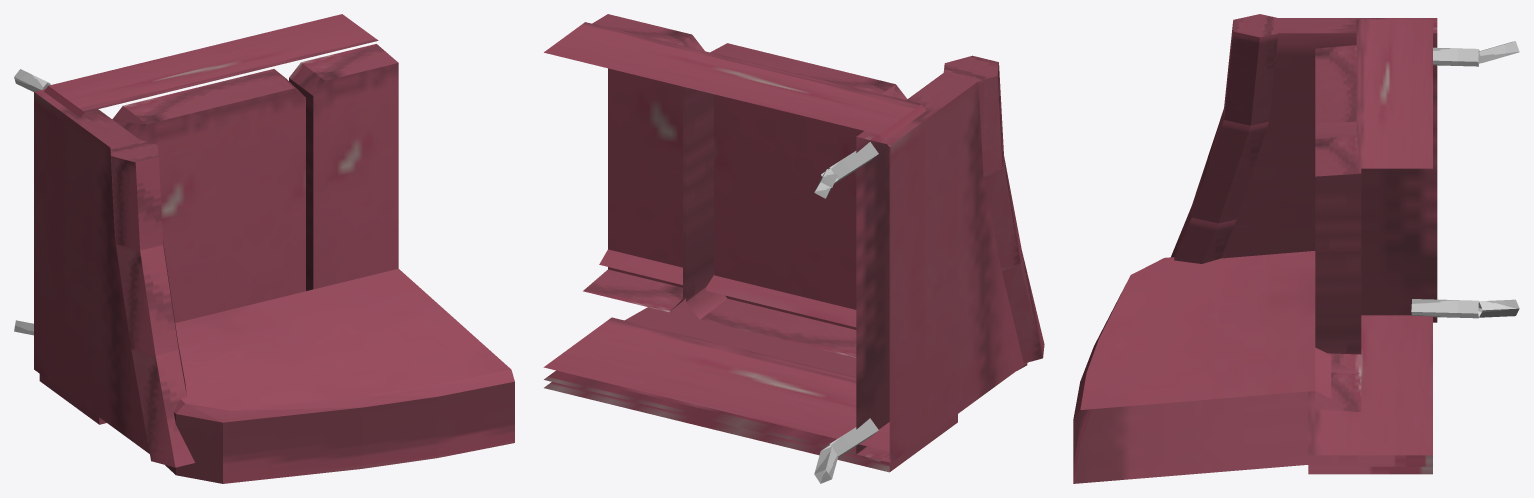
File: pz_sofa_seating_indoor_03_victorian_c1_0_0_fidelity_r1.obj
3 renders of one model, left to right at view 1: azimuth 30°, elevation 25°; view 2: azimuth 150°, elevation 25°; view 3: azimuth 270°, elevation 25°, orthographic. The views are drawn at different scales.
Parts seen in each view (by area): view 1: pz_sofa_seating_indoor_03_victorian_c1_0_0__sculpted_back__back, pz_sofa_seating_indoor_03_victorian_c1_0_0__seat_0__seat, pz_sofa_seating_indoor_03_victorian_c1_0_0__curved_victorian_sid, pz_sofa_seating_indoor_03_victorian_c1_0_0__seat_1__seat, pz_sofa_seating_indoor_03_victorian_c1_0_0__lower_body__body, pz_sofa_seating_indoor_03_victorian_c1_0_0__victorian_roll_-1_1_, pz_sofa_seating_indoor_03_victorian_c1_0_0__victorian_roll_-1_2_, pz_sofa_seating_indoor_03_victorian_c1_0_0__victorian_roll_-1_0_, pz_sofa_seating_indoor_03_victorian_c1_0_0__sculpted_back__frame; view 2: pz_sofa_seating_indoor_03_victorian_c1_0_0__curved_victorian_sid, pz_sofa_seating_indoor_03_victorian_c1_0_0__seat_0__seat, pz_sofa_seating_indoor_03_victorian_c1_0_0__rear_body_bridge__bo, pz_sofa_seating_indoor_03_victorian_c1_0_0__lower_body__body, pz_sofa_seating_indoor_03_victorian_c1_0_0__seat_1__seat, pz_sofa_seating_indoor_03_victorian_c1_0_0__sculpted_back__back, pz_sofa_seating_indoor_03_victorian_c1_0_0__sculpted_back__frame, pz_sofa_seating_indoor_03_victorian_c1_0_0__victorian_roll_-1_2_, pz_sofa_seating_indoor_03_victorian_c1_0_0__victorian_roll_-1_0_, pz_sofa_seating_indoor_03_victorian_c1_0_0__victorian_roll_-1_1_, pz_sofa_seating_indoor_03_victorian_c1_0_0__curved_foot_-1_1_1__, pz_sofa_seating_indoor_03_victorian_c1_0_0__curved_foot_-1_-1_1_ (+1 smaller); view 3: pz_sofa_seating_indoor_03_victorian_c1_0_0__sculpted_back__back, pz_sofa_seating_indoor_03_victorian_c1_0_0__curved_victorian_sid, pz_sofa_seating_indoor_03_victorian_c1_0_0__rear_body_bridge__bo, pz_sofa_seating_indoor_03_victorian_c1_0_0__lower_body__body, pz_sofa_seating_indoor_03_victorian_c1_0_0__seat_1__seat, pz_sofa_seating_indoor_03_victorian_c1_0_0__victorian_roll_-1_2_, pz_sofa_seating_indoor_03_victorian_c1_0_0__victorian_roll_-1_1_, pz_sofa_seating_indoor_03_victorian_c1_0_0__seat_0__seat, pz_sofa_seating_indoor_03_victorian_c1_0_0__victorian_roll_-1_0_, pz_sofa_seating_indoor_03_victorian_c1_0_0__curved_foot_-1_-1_1_, pz_sofa_seating_indoor_03_victorian_c1_0_0__sculpted_back__frame, pz_sofa_seating_indoor_03_victorian_c1_0_0__curved_foot_-1_1_1__ (+2 smaller).
Boxes of the visible parts, box(x1,y1,x2,y2) form: pz_sofa_seating_indoor_03_victorian_c1_0_0__sculpted_back__back: box(165, 268, 514, 483); pz_sofa_seating_indoor_03_victorian_c1_0_0__seat_0__seat: box(112, 69, 305, 322); pz_sofa_seating_indoor_03_victorian_c1_0_0__curved_victorian_sid: box(34, 89, 149, 453); pz_sofa_seating_indoor_03_victorian_c1_0_0__seat_1__seat: box(289, 44, 398, 290); pz_sofa_seating_indoor_03_victorian_c1_0_0__lower_body__body: box(44, 14, 378, 117); pz_sofa_seating_indoor_03_victorian_c1_0_0__victorian_roll_-1_1_: box(115, 241, 178, 355); pz_sofa_seating_indoor_03_victorian_c1_0_0__victorian_roll_-1_2_: box(110, 138, 163, 250); pz_sofa_seating_indoor_03_victorian_c1_0_0__victorian_roll_-1_0_: box(131, 338, 194, 467); pz_sofa_seating_indoor_03_victorian_c1_0_0__sculpted_back__frame: box(174, 369, 514, 422); pz_sofa_seating_indoor_03_victorian_c1_0_0__curved_victorian_sid: box(856, 71, 1027, 462); pz_sofa_seating_indoor_03_victorian_c1_0_0__seat_0__seat: box(686, 43, 907, 357); pz_sofa_seating_indoor_03_victorian_c1_0_0__rear_body_bridge__bo: box(543, 317, 957, 472); pz_sofa_seating_indoor_03_victorian_c1_0_0__lower_body__body: box(544, 22, 926, 461); pz_sofa_seating_indoor_03_victorian_c1_0_0__seat_1__seat: box(583, 14, 704, 312); pz_sofa_seating_indoor_03_victorian_c1_0_0__sculpted_back__back: box(625, 298, 1027, 376); pz_sofa_seating_indoor_03_victorian_c1_0_0__sculpted_back__frame: box(599, 249, 856, 327); pz_sofa_seating_indoor_03_victorian_c1_0_0__victorian_roll_-1_2_: box(943, 55, 1003, 174); pz_sofa_seating_indoor_03_victorian_c1_0_0__victorian_roll_-1_0_: box(1001, 250, 1044, 363); pz_sofa_seating_indoor_03_victorian_c1_0_0__victorian_roll_-1_1_: box(983, 156, 1021, 268); pz_sofa_seating_indoor_03_victorian_c1_0_0__curved_foot_-1_1_1__: box(821, 142, 878, 183); pz_sofa_seating_indoor_03_victorian_c1_0_0__curved_foot_-1_-1_1_: box(821, 418, 878, 457); pz_sofa_seating_indoor_03_victorian_c1_0_0__sculpted_back__back: box(1073, 251, 1331, 483); pz_sofa_seating_indoor_03_victorian_c1_0_0__curved_victorian_sid: box(1221, 18, 1437, 322); pz_sofa_seating_indoor_03_victorian_c1_0_0__rear_body_bridge__bo: box(1308, 315, 1432, 474); pz_sofa_seating_indoor_03_victorian_c1_0_0__lower_body__body: box(1356, 19, 1432, 466); pz_sofa_seating_indoor_03_victorian_c1_0_0__seat_1__seat: box(1315, 135, 1361, 412); pz_sofa_seating_indoor_03_victorian_c1_0_0__victorian_roll_-1_2_: box(1224, 14, 1284, 125); pz_sofa_seating_indoor_03_victorian_c1_0_0__victorian_roll_-1_1_: box(1191, 109, 1268, 223); pz_sofa_seating_indoor_03_victorian_c1_0_0__seat_0__seat: box(1315, 45, 1356, 138); pz_sofa_seating_indoor_03_victorian_c1_0_0__victorian_roll_-1_0_: box(1171, 206, 1236, 263); pz_sofa_seating_indoor_03_victorian_c1_0_0__curved_foot_-1_-1_1_: box(1411, 299, 1479, 318); pz_sofa_seating_indoor_03_victorian_c1_0_0__sculpted_back__frame: box(1073, 285, 1331, 419); pz_sofa_seating_indoor_03_victorian_c1_0_0__curved_foot_-1_1_1__: box(1433, 47, 1479, 66).
Bounding box in the file's own units: 0.8848 × 0.8149 × 1.05.
1 material, 1 textured.
